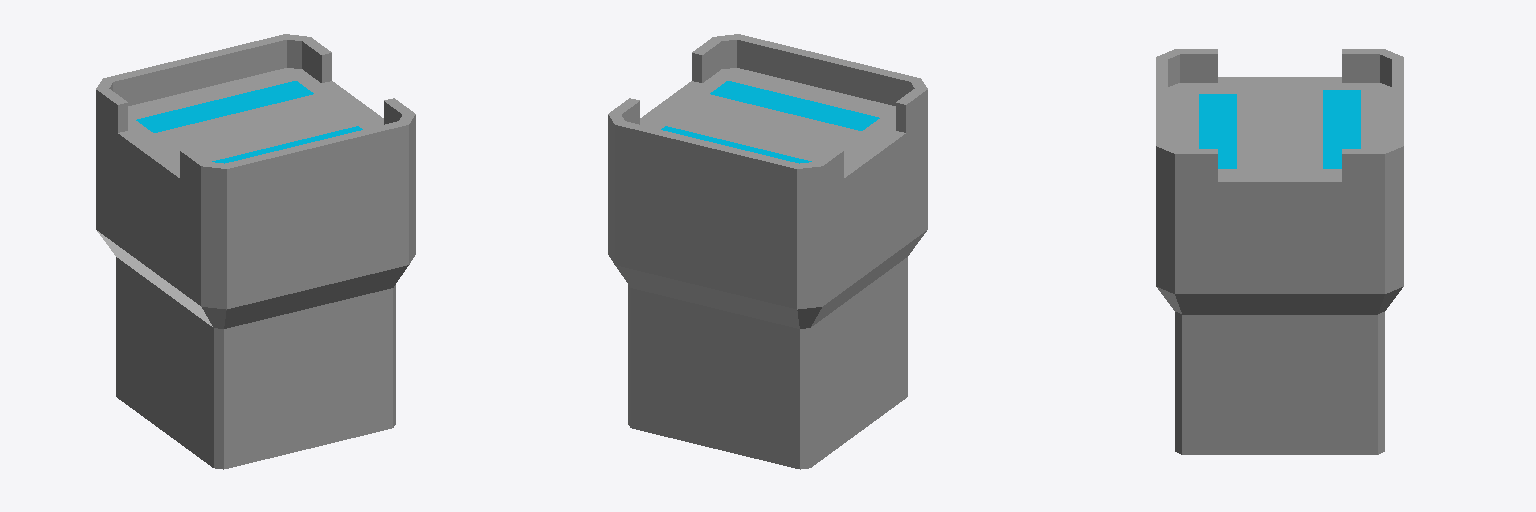
File: platform-xlarge.obj
The picture shows the model from 3 angles: view 1: azimuth 30°, elevation 25°; view 2: azimuth 150°, elevation 25°; view 3: azimuth 270°, elevation 25°; orthographic projection.
Parts seen in each view (by area): view 1: Mesh1 Platform__XLarge1 Model; view 2: Mesh1 Platform__XLarge1 Model; view 3: Mesh1 Platform__XLarge1 Model.
Part boxes in pixels (bbox=[...]): Mesh1 Platform__XLarge1 Model: bbox=[96, 34, 415, 469]; Mesh1 Platform__XLarge1 Model: bbox=[608, 34, 927, 469]; Mesh1 Platform__XLarge1 Model: bbox=[1156, 49, 1403, 454].
Bounding box in the file's own units: 4 × 5.5 × 4.